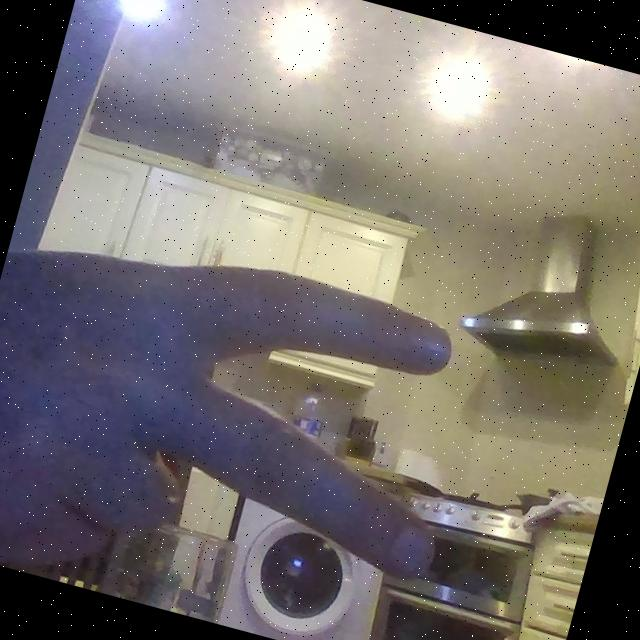scissors: (0, 207, 500, 640)
